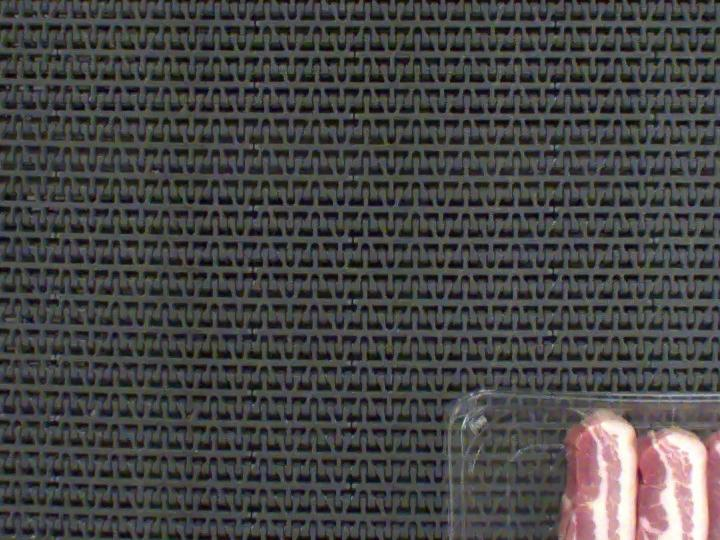packaging-error: (569, 403, 629, 420)
